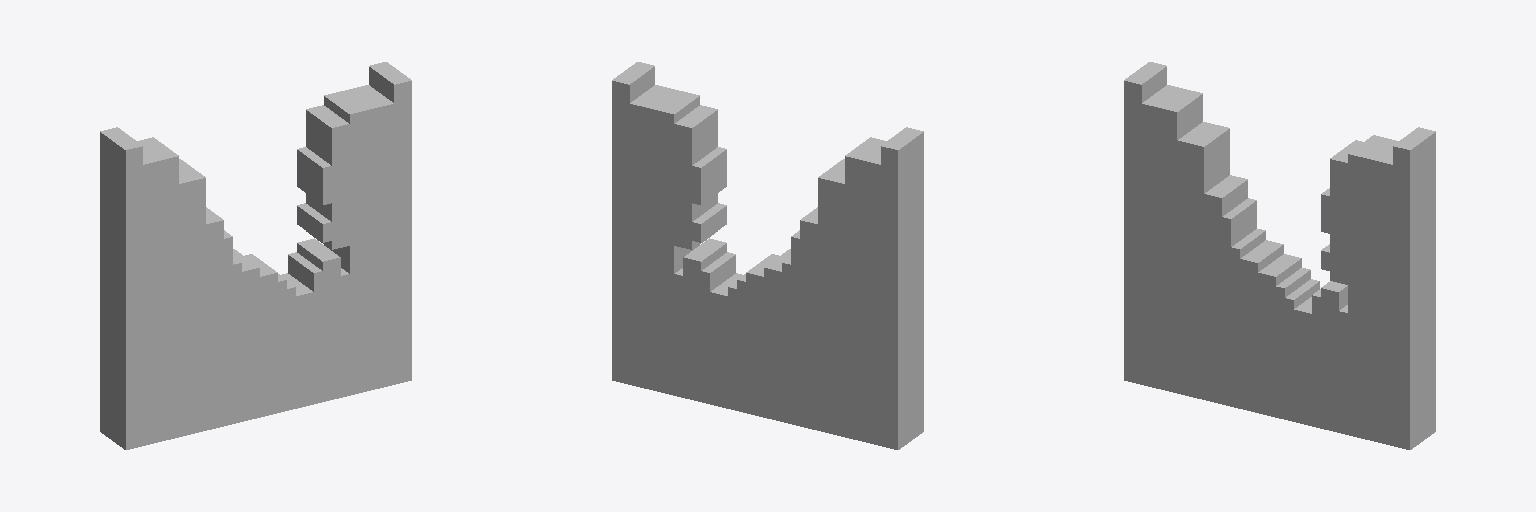
The model's file is wall_2.obj.
3 views of the same model, side by side, from view 1: azimuth 30°, elevation 25°; view 2: azimuth 150°, elevation 25°; view 3: azimuth 330°, elevation 25° (orthographic).
Visible parts, largest first — view 1: object 1; view 2: object 1; view 3: object 1.
Part boxes in pixels (x1,y1,x2,y2): object 1: (100,62,411,449); object 1: (612,62,923,449); object 1: (1124,62,1435,449).
Bounding box in the file's own units: 3.2 × 3.2 × 0.5.